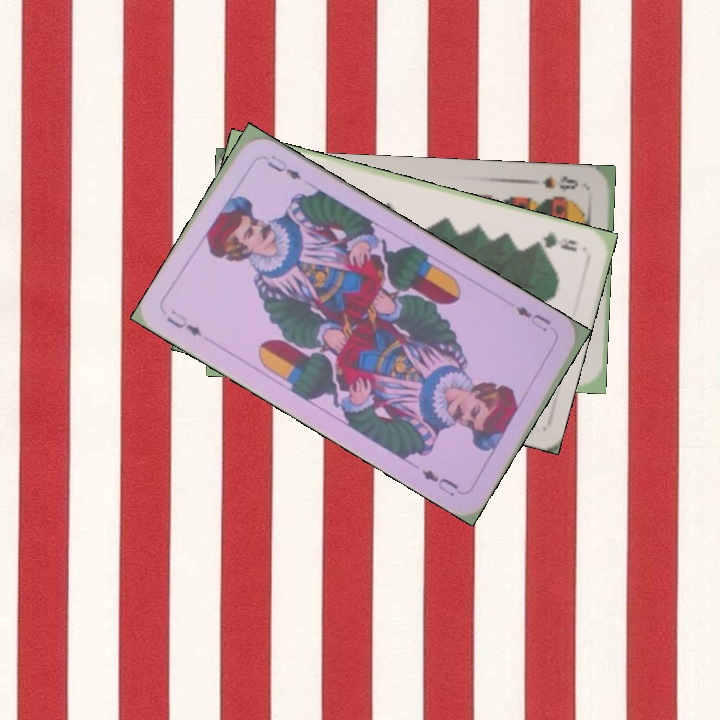EU: (511, 301, 554, 335), (162, 306, 205, 339)
G9: (528, 227, 581, 254)
S8: (539, 171, 581, 194)
